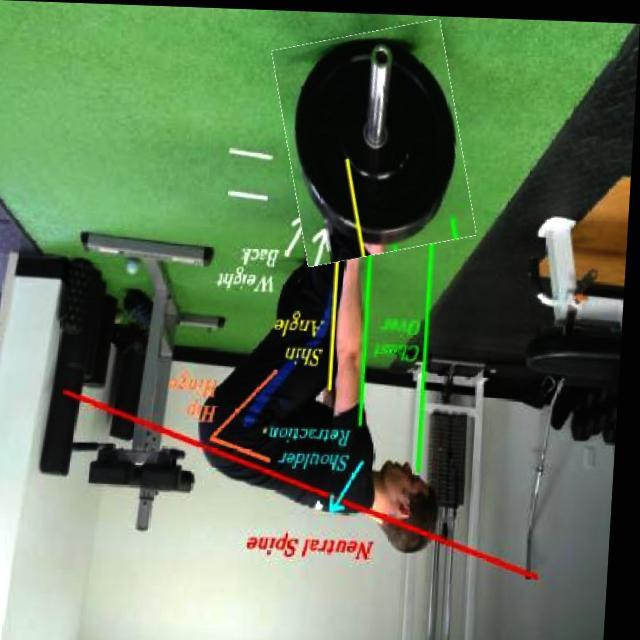barbell: (274, 20, 478, 261)
